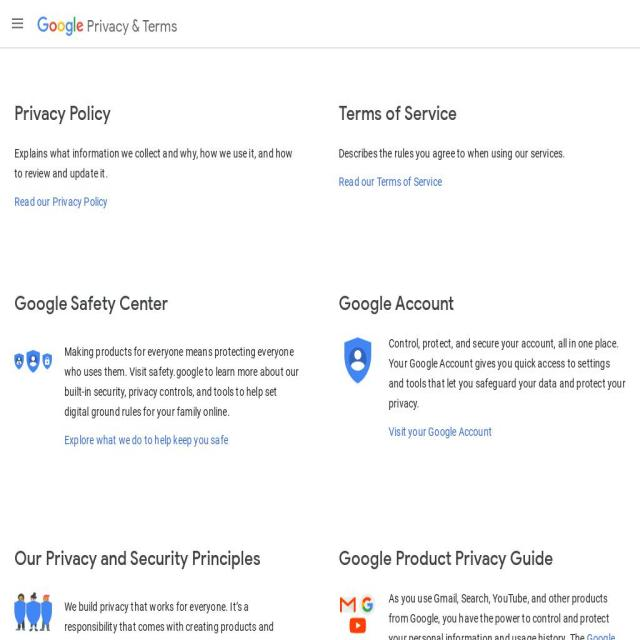heading: (338, 100, 626, 127), (338, 290, 626, 317), (338, 545, 626, 572), (15, 100, 302, 127), (15, 290, 302, 317), (15, 545, 302, 572), (87, 16, 177, 32), (38, 16, 84, 36)
image: (14, 338, 52, 388), (339, 338, 376, 388), (14, 592, 52, 640), (339, 592, 377, 640)
link: (64, 433, 228, 447), (389, 631, 615, 640), (339, 175, 442, 188), (389, 425, 492, 438), (14, 195, 108, 208)
text: (388, 334, 626, 414), (65, 342, 302, 422), (15, 127, 302, 183), (388, 591, 609, 640), (64, 596, 301, 640), (338, 127, 626, 163)
